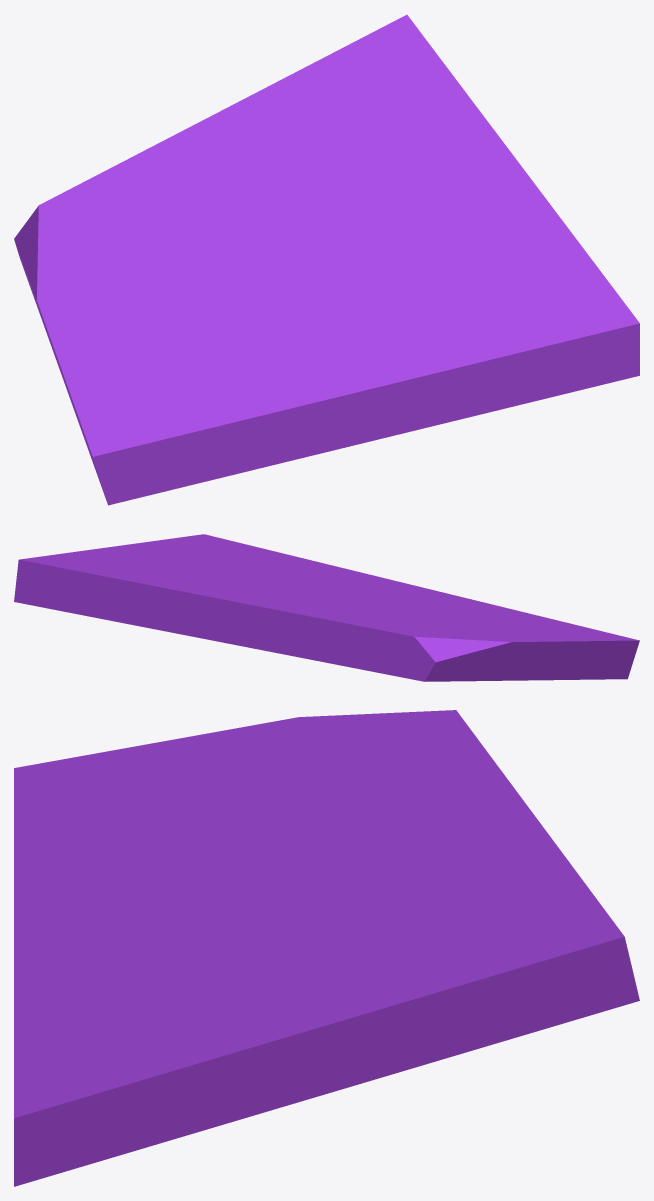
File: Window_162_0_chunks.fbx
The picture shows the model from 3 angles, top to bottom: view 1: azimuth 30°, elevation 25°; view 2: azimuth 150°, elevation 25°; view 3: azimuth 270°, elevation 25°; orthographic projection. The views are drawn at different scales.
Parts seen in each view (by area): view 1: Window_162_0_11, Window_162_0_4, Window_162_0_2, Window_162_0_24, Window_162_0_19, Window_162_0_27, Window_162_0_3, Window_162_0_1, Window_162_0_18, Window_162_0_9, Window_162_0_5, Window_162_0_26 (+7 smaller); view 2: Window_162_0_2, Window_162_0_18, Window_162_0_19, Window_162_0_13, Window_162_0_11, Window_162_0_4, Window_162_0_12, Window_162_0_3, Window_162_0_27, Window_162_0_1, Window_162_0_9, Window_162_0_14 (+7 smaller); view 3: Window_162_0_4, Window_162_0_11, Window_162_0_19, Window_162_0_2, Window_162_0_27, Window_162_0_3, Window_162_0_18, Window_162_0_9, Window_162_0_1, Window_162_0_5, Window_162_0_24, Window_162_0_26 (+8 smaller).
Boxes of the visible parts, left/top/right/bottom form: Window_162_0_11: left=387, top=250, right=639, bottom=392; Window_162_0_4: left=378, top=90, right=585, bottom=251; Window_162_0_2: left=14, top=161, right=233, bottom=299; Window_162_0_24: left=152, top=370, right=365, bottom=490; Window_162_0_19: left=313, top=14, right=463, bottom=141; Window_162_0_27: left=180, top=268, right=340, bottom=376; Window_162_0_3: left=125, top=152, right=390, bottom=250; Window_162_0_1: left=119, top=276, right=221, bottom=502; Window_162_0_18: left=141, top=63, right=335, bottom=159; Window_162_0_9: left=225, top=249, right=441, bottom=313; Window_162_0_5: left=172, top=157, right=381, bottom=235; Window_162_0_26: left=275, top=335, right=417, bottom=425; Window_162_0_2: left=313, top=603, right=462, bottom=681; Window_162_0_18: left=120, top=578, right=304, bottom=655; Window_162_0_19: left=14, top=553, right=166, bottom=621; Window_162_0_13: left=528, top=629, right=639, bottom=680; Window_162_0_11: left=161, top=534, right=364, bottom=579; Window_162_0_4: left=65, top=540, right=265, bottom=576; Window_162_0_12: left=458, top=628, right=534, bottom=681; Window_162_0_3: left=257, top=575, right=350, bottom=659; Window_162_0_27: left=346, top=587, right=509, bottom=620; Window_162_0_1: left=387, top=607, right=608, bottom=632; Window_162_0_9: left=240, top=566, right=375, bottom=606; Window_162_0_14: left=497, top=633, right=576, bottom=665; Window_162_0_4: left=153, top=931, right=488, bottom=1135; Window_162_0_11: left=14, top=950, right=215, bottom=1181; Window_162_0_19: left=414, top=878, right=639, bottom=1045; Window_162_0_2: left=260, top=710, right=495, bottom=842; Window_162_0_27: left=84, top=819, right=273, bottom=918; Window_162_0_3: left=238, top=763, right=502, bottom=946; Window_162_0_18: left=441, top=773, right=581, bottom=899; Window_162_0_9: left=132, top=839, right=303, bottom=980; Window_162_0_1: left=14, top=780, right=262, bottom=837; Window_162_0_5: left=266, top=794, right=480, bottom=939; Window_162_0_24: left=14, top=806, right=112, bottom=905; Window_162_0_26: left=14, top=881, right=118, bottom=975.
Size of the model in its own units: 1097 by 366 by 829.
